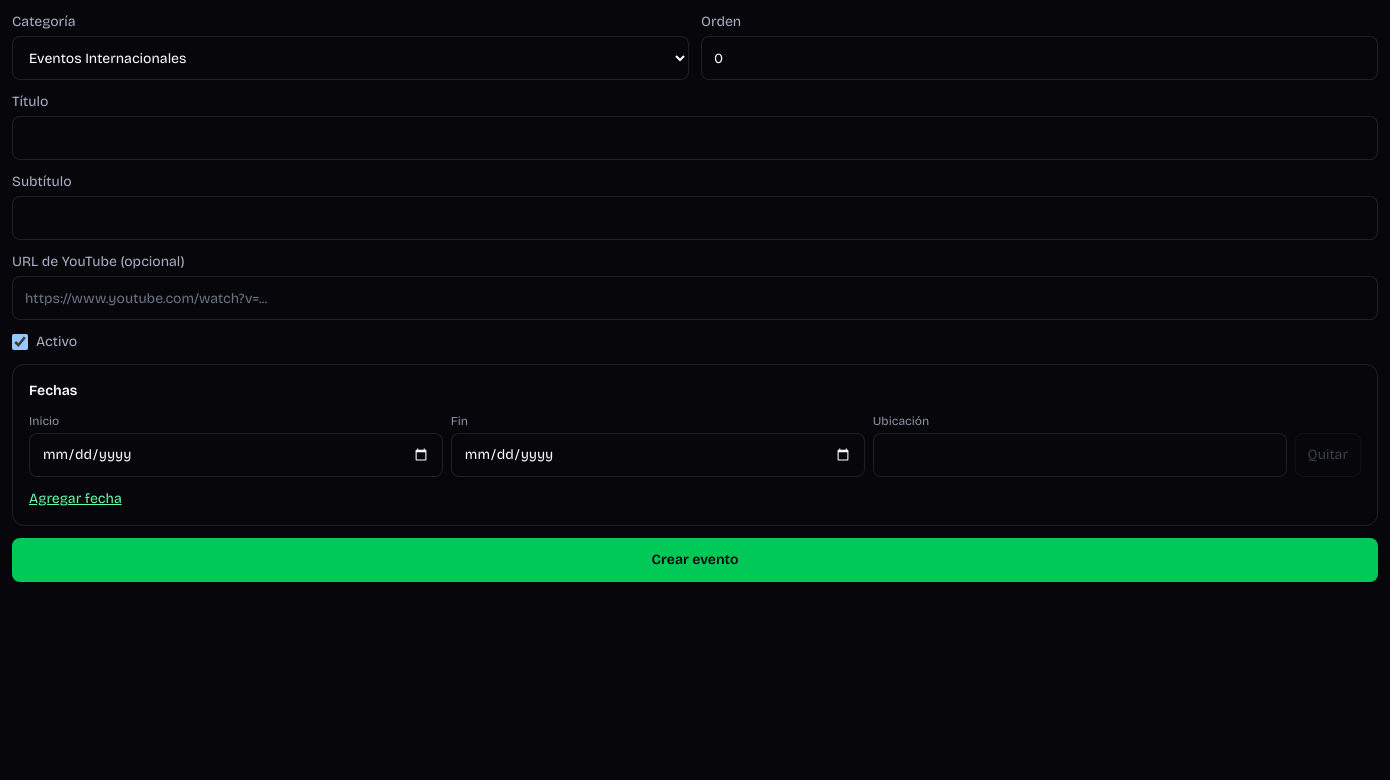
EventoForm › quita una fila al hacer click en 'Quitar', pero no deja menos de una
This screenshot has width=1390, height=780.
Click the button "Agregar fecha" at (75, 499), box [29, 489, 122, 509]
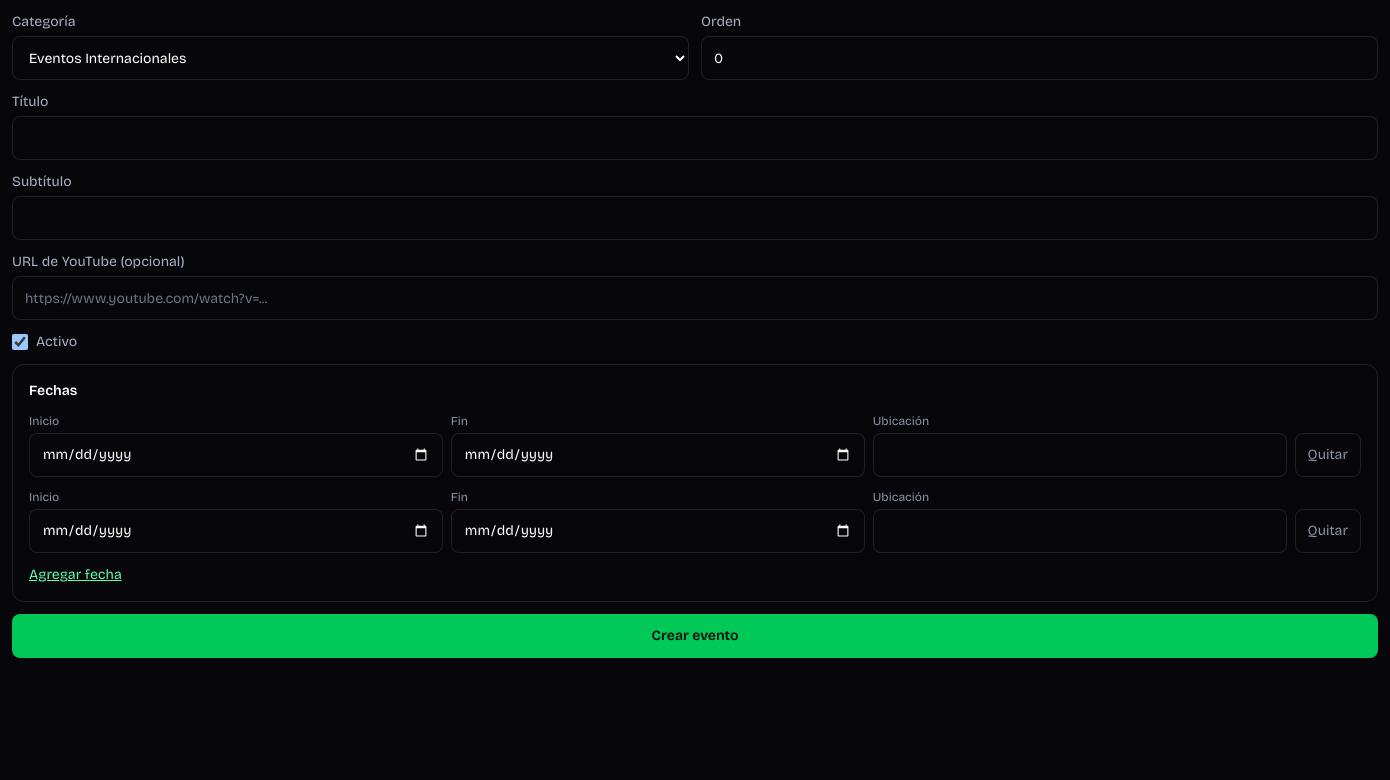
Expected: the number of date fields labelled "Inicio" is 2, [29, 433, 443, 477]; [29, 509, 443, 553]
Click the 1st button "Quitar" at (1328, 455), box [1295, 433, 1361, 477]
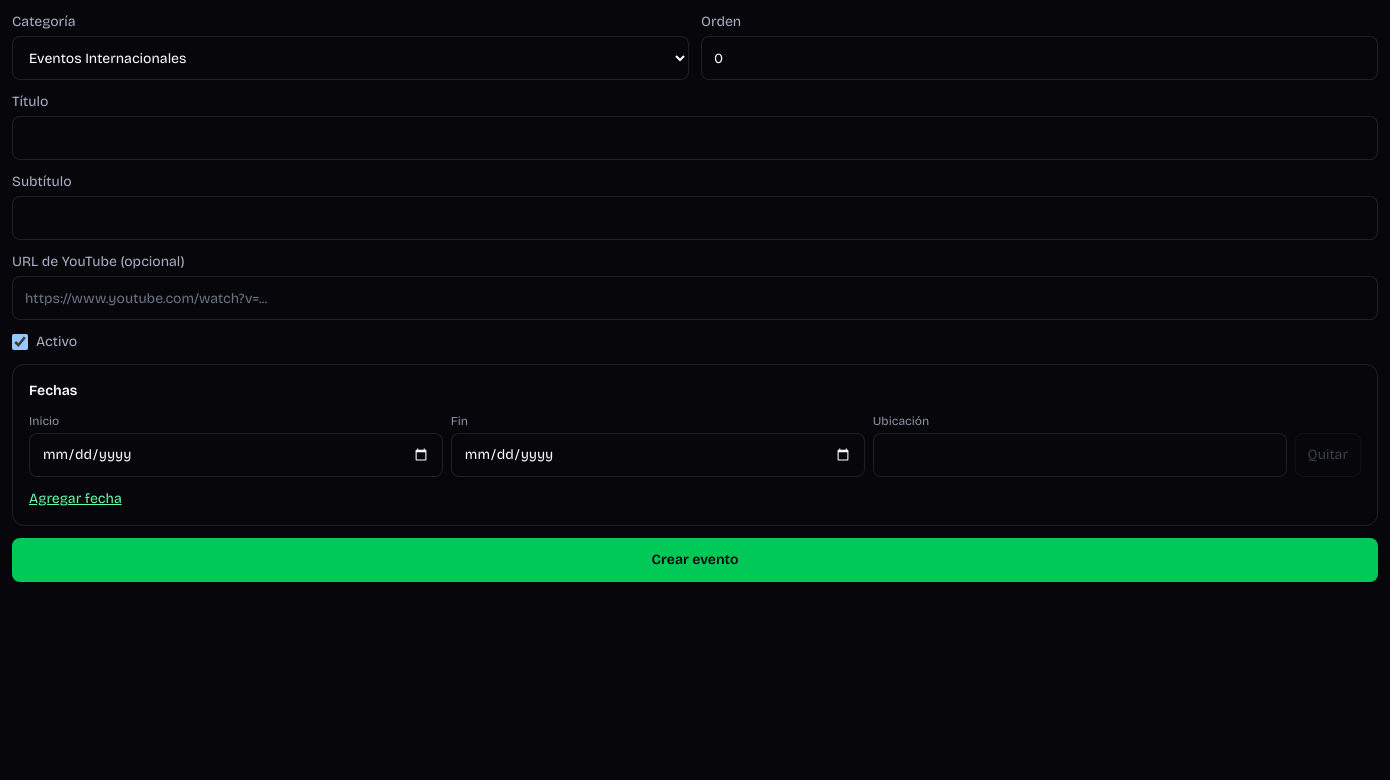
Expected: the number of date fields labelled "Inicio" is 1, [29, 433, 443, 477]
Expected: the button "Quitar" is disabled, [1295, 433, 1361, 477]
